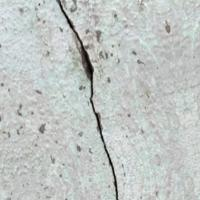crack: (45, 0, 128, 199)
